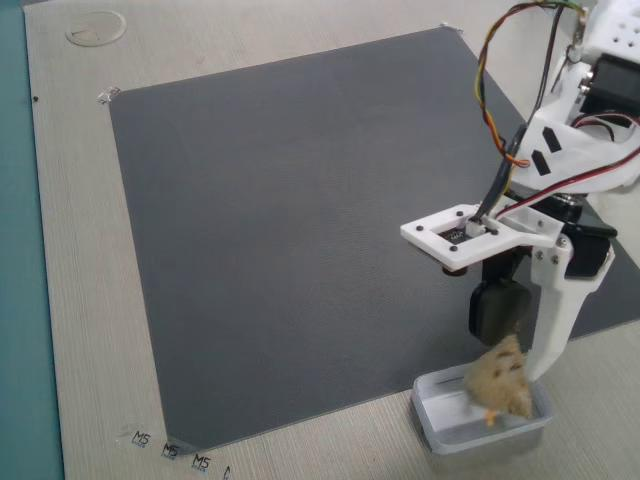gripper: (427, 213, 587, 366)
